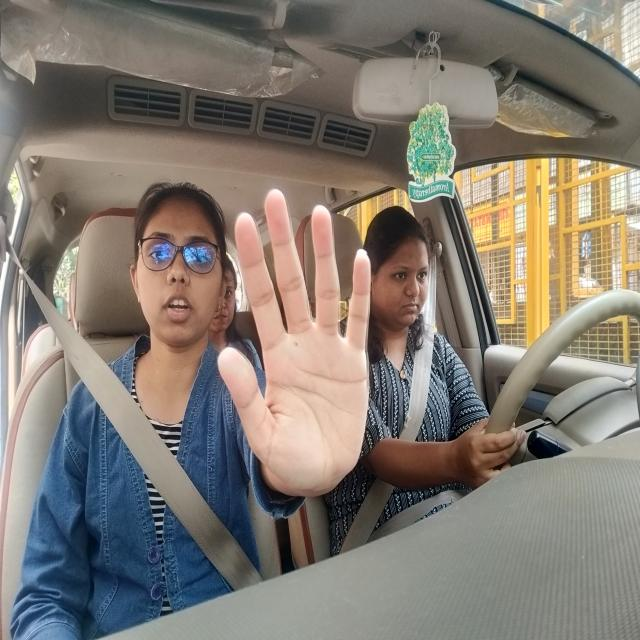person: (122, 177, 238, 367), (360, 192, 440, 351), (222, 246, 241, 342)
